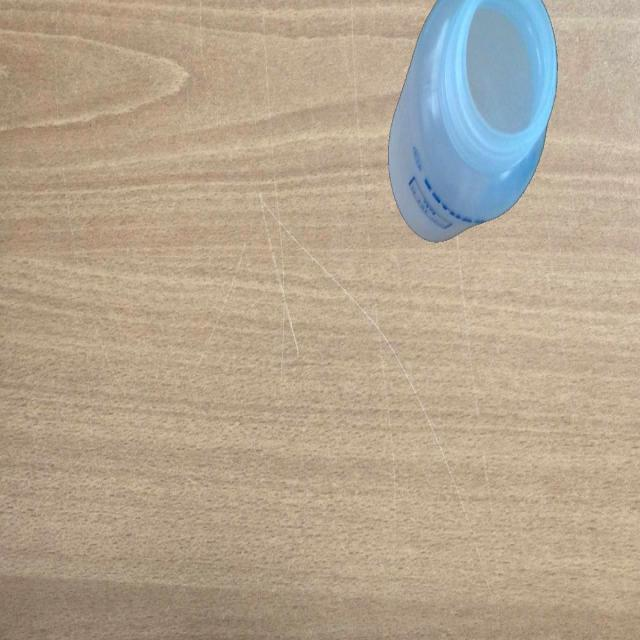bottle: (386, 0, 560, 248)
